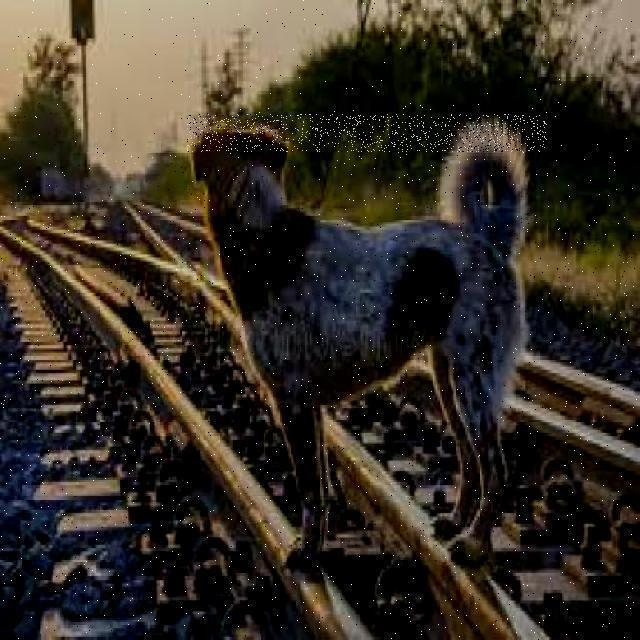rail: (2, 154, 635, 635)
